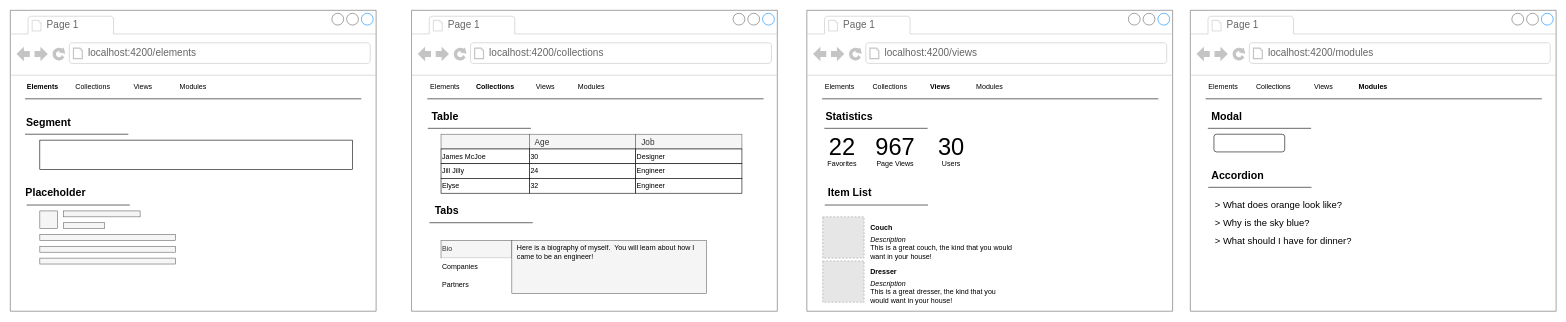
The diagram is 1566 pixels wide and 322 high, and some of its shapes have lost their labels. Grey dashed boxes stand in for pictures. The centre of each missing label's shape, as x and y in pixels:
Name: [485,141]
Open Modal: [1249,143]
This is an example of a segment component: [196,155]
